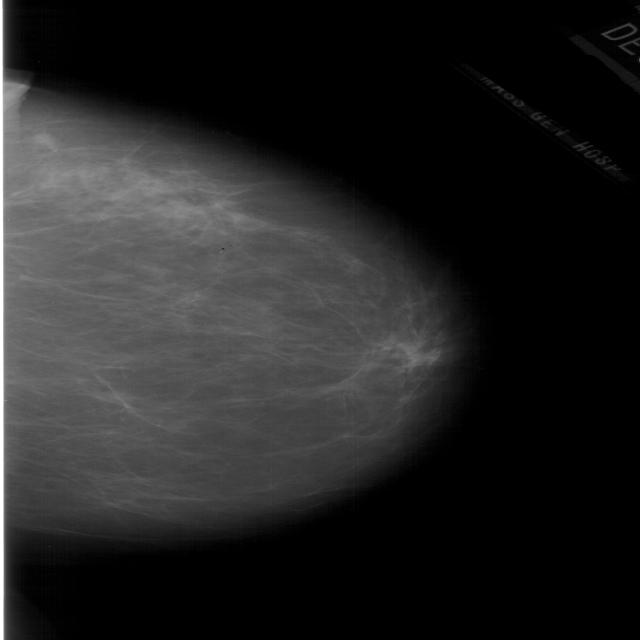normal: (0, 79, 484, 576)
